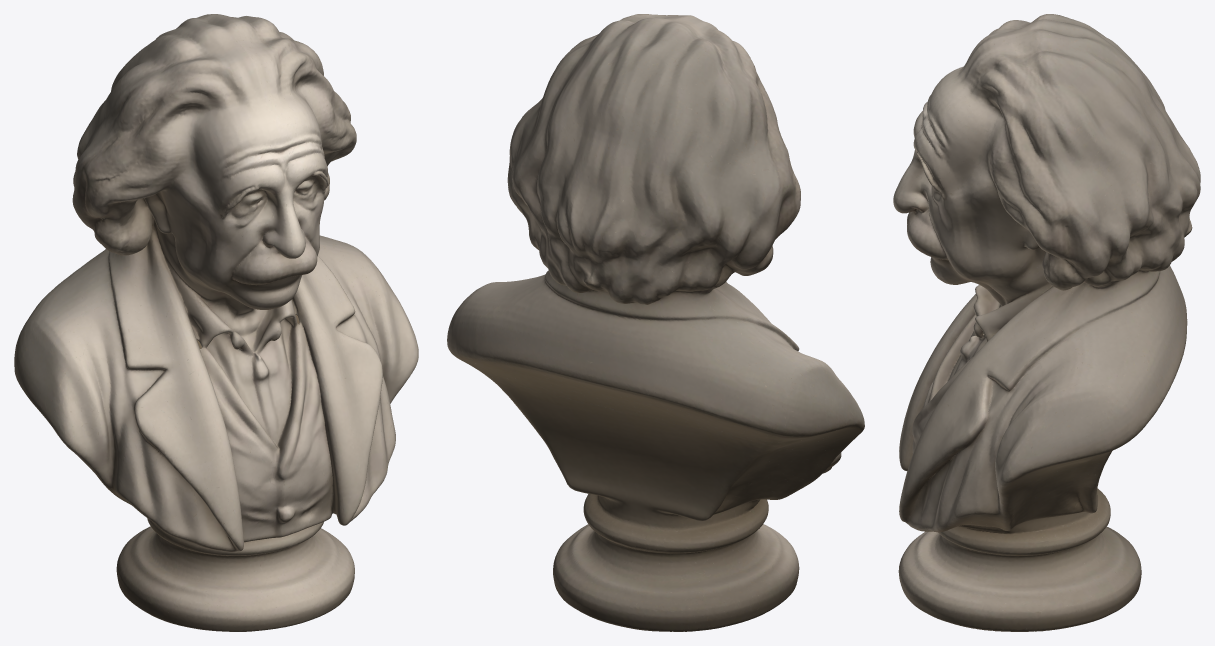
Rendered from generation_einstein_0.glb.
The picture shows the model from 3 angles, left to right: view 1: azimuth 30°, elevation 25°; view 2: azimuth 150°, elevation 25°; view 3: azimuth 270°, elevation 25°; orthographic projection. The views are drawn at different scales.
Visible parts, largest first — view 1: geometry_0; view 2: geometry_0; view 3: geometry_0.
Boxes of the visible parts, <box> form: geometry_0: <box>14,14,418,631</box>; geometry_0: <box>447,14,864,631</box>; geometry_0: <box>893,14,1200,631</box>.
Bounding box in the file's own units: 0.6958 × 1 × 0.5017.
1 material, 1 textured.
